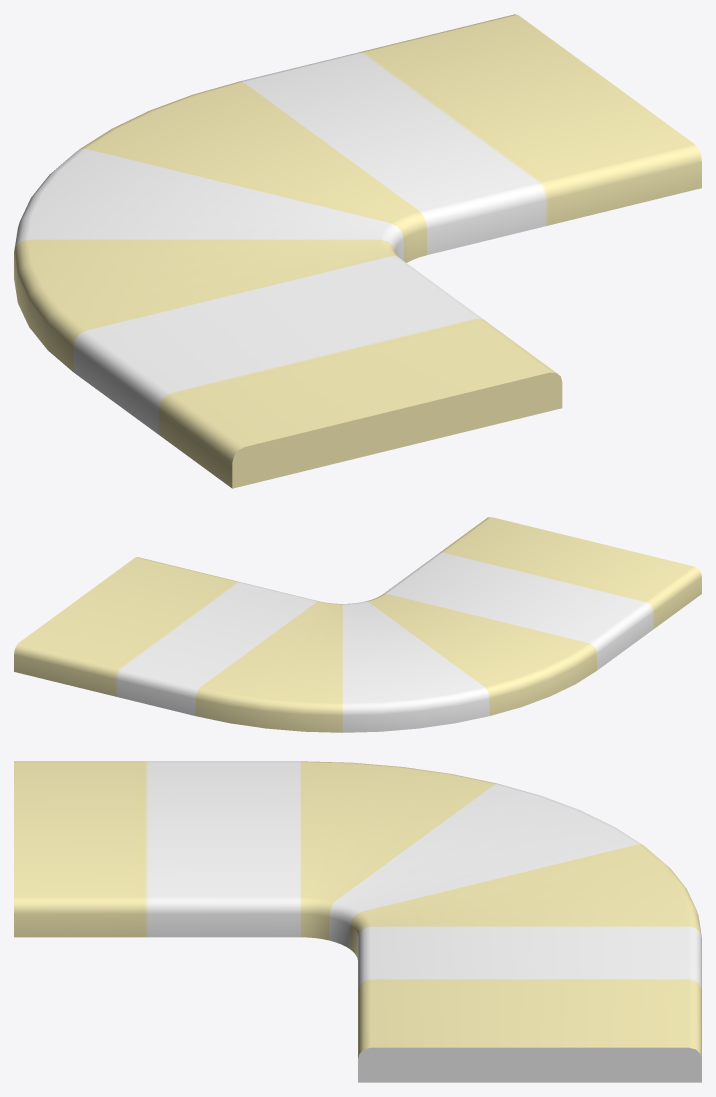
The model's file is RoadTurn_yellow.fbx.
The picture shows the model from 3 angles, top to bottom: view 1: azimuth 30°, elevation 25°; view 2: azimuth 150°, elevation 25°; view 3: azimuth 270°, elevation 25°; orthographic projection. The views are drawn at different scales.
Visible parts, largest first — view 1: RoadTurn_yellow; view 2: RoadTurn_yellow; view 3: RoadTurn_yellow.
Boxes of the visible parts, bbox=[...] form: RoadTurn_yellow: bbox=[14, 14, 701, 488]; RoadTurn_yellow: bbox=[14, 517, 701, 732]; RoadTurn_yellow: bbox=[14, 761, 701, 1082].
Bounding box in the file's own units: 600 × 33.61 × 600.
1 material, 1 textured.
